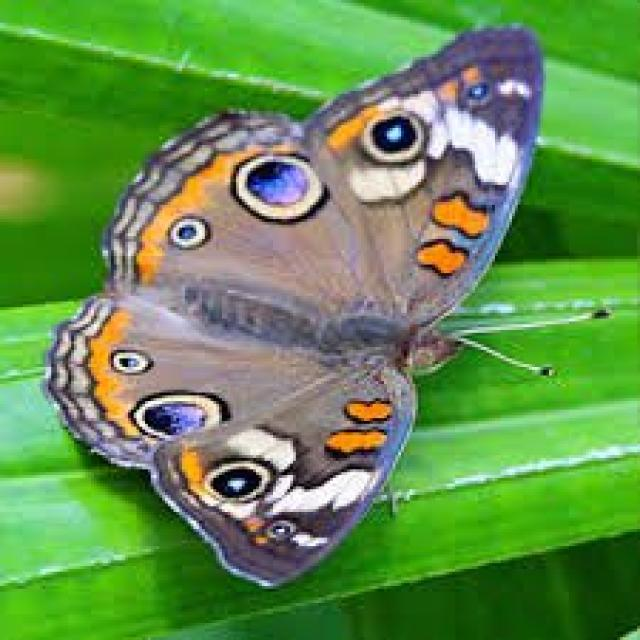butterfly: (101, 117, 474, 545)
